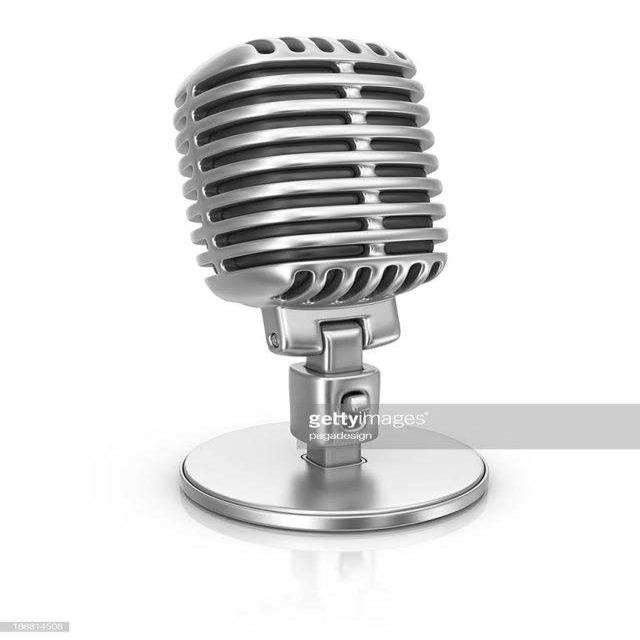microphone: (165, 20, 479, 368)
